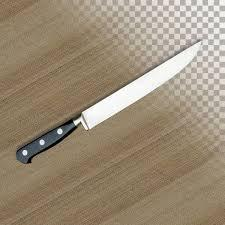Knife: (15, 38, 202, 164)
